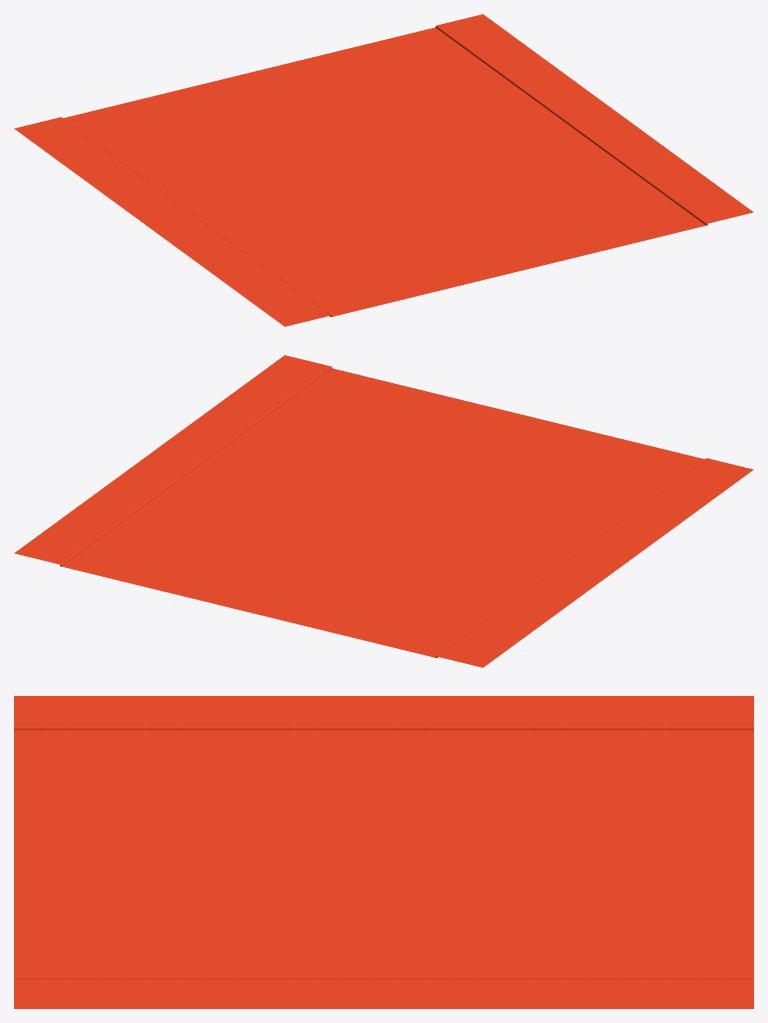
The model's file is SM_Freeway_Straight_30x30_City.fbx.
3 renders of one model, top to bottom at view 1: azimuth 30°, elevation 25°; view 2: azimuth 150°, elevation 25°; view 3: azimuth 270°, elevation 25°, orthographic. The views are drawn at different scales.
Visible parts, largest first — view 1: SM_Freeway_Straight_30x30_City; view 2: SM_Freeway_Straight_30x30_City; view 3: SM_Freeway_Straight_30x30_City.
Part boxes in pixels (left/top/right/bottom): SM_Freeway_Straight_30x30_City: left=14, top=14, right=753, bottom=326; SM_Freeway_Straight_30x30_City: left=14, top=355, right=753, bottom=667; SM_Freeway_Straight_30x30_City: left=14, top=696, right=753, bottom=1008.
Bounding box in the file's own units: 30 × 0.1084 × 30.
